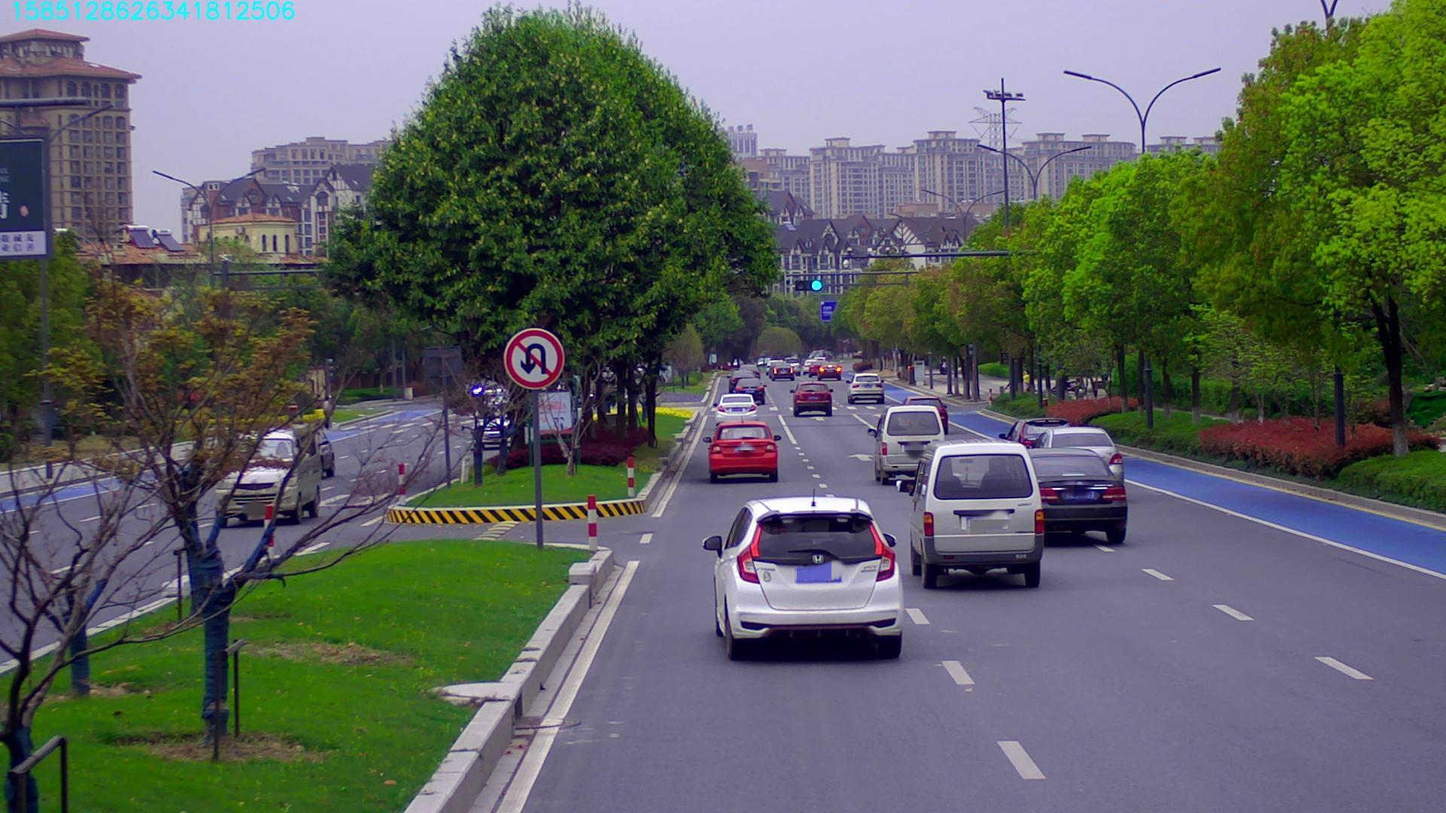green: (791, 275, 822, 288)
